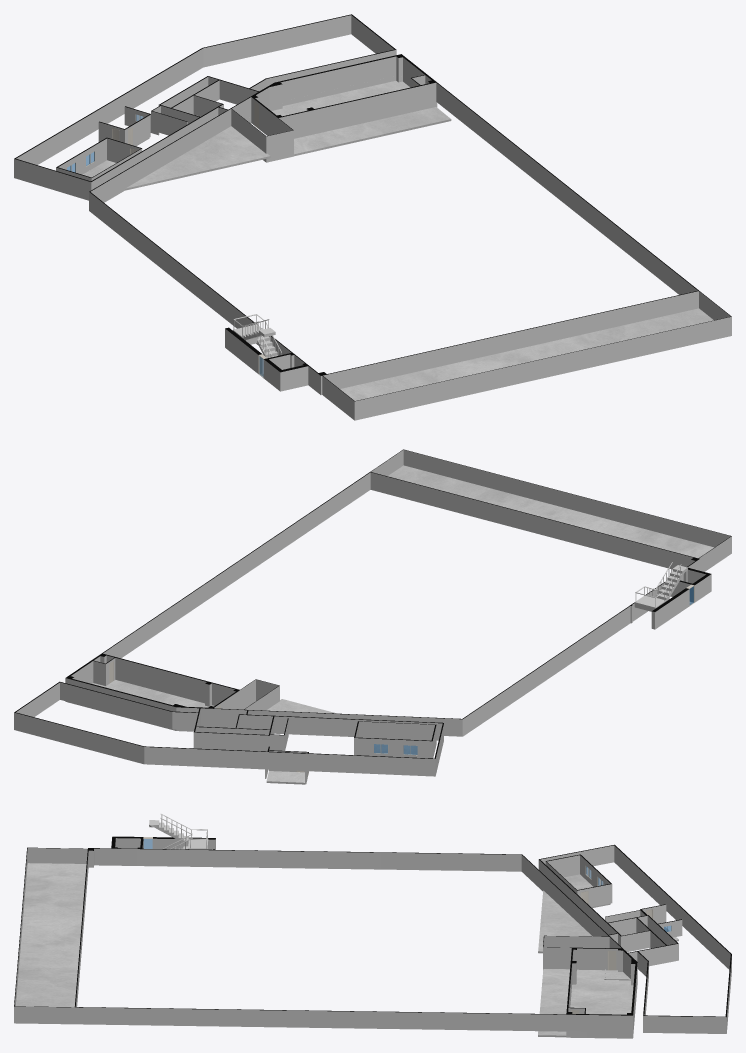
The model's file is A3_2F_PIT.glb.
3 renders of one model, top to bottom at view 1: azimuth 30°, elevation 25°; view 2: azimuth 150°, elevation 25°; view 3: azimuth 270°, elevation 25°, orthographic. The views are drawn at different scales.
Parts seen in each view (by area): view 1: A3_2F_벽, A3_2F_바닥, A3_2F_계단; view 2: A3_2F_벽, A3_2F_바닥, A3_2F_계단; view 3: A3_2F_벽, A3_2F_바닥, A3_2F_계단, A3_2F_문.
Boxes of the visible parts, x1=… form: A3_2F_벽: x1=14, y1=14, x2=731, y2=420; A3_2F_바닥: x1=83, y1=81, x2=713, y2=400; A3_2F_계단: x1=233, y1=314, x2=281, y2=358; A3_2F_벽: x1=14, y1=449, x2=731, y2=784; A3_2F_바닥: x1=92, y1=465, x2=714, y2=784; A3_2F_계단: x1=634, y1=562, x2=687, y2=611; A3_2F_벽: x1=14, y1=836, x2=731, y2=1038; A3_2F_바닥: x1=16, y1=863, x2=678, y2=1037; A3_2F_계단: x1=149, y1=813, x2=208, y2=849; A3_2F_문: x1=571, y1=891, x2=653, y2=1013.
Bounding box in the file's own units: 45.75 × 6.83 × 76.85.
5 materials, 1 textured.
